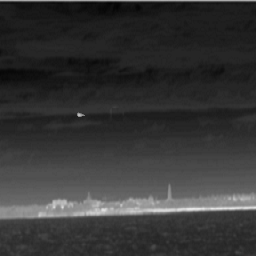Target: (76, 112, 86, 117)
